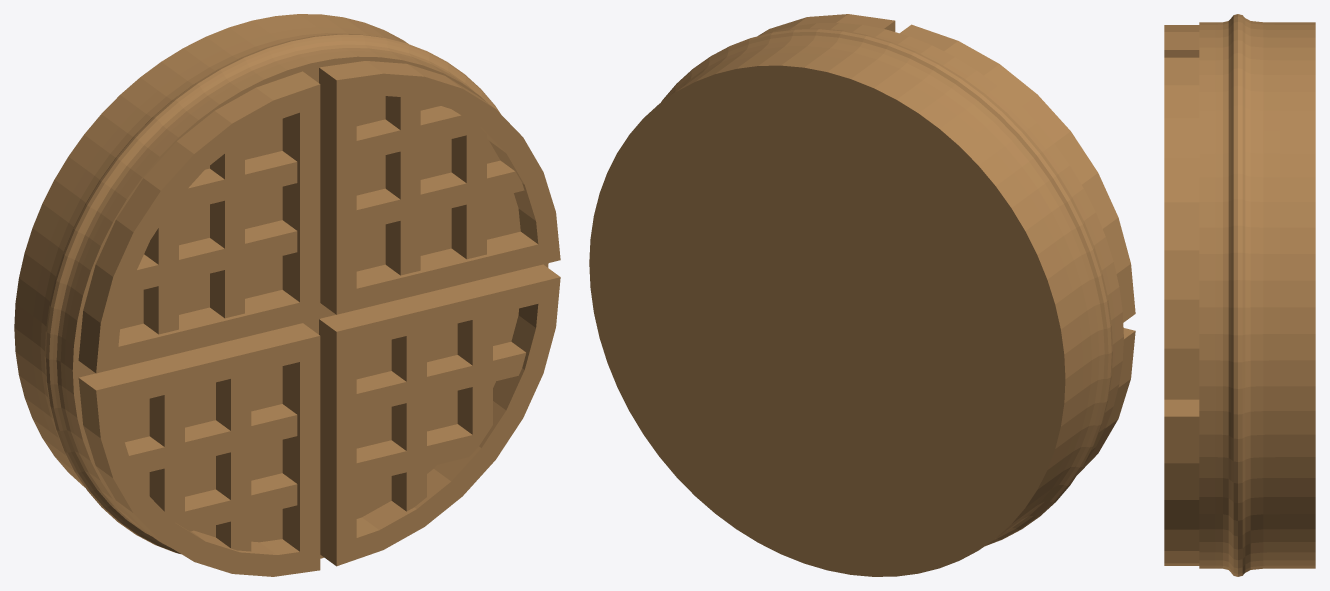
Rendered from wafle.glb.
The picture shows the model from 3 angles, left to right: view 1: azimuth 30°, elevation 25°; view 2: azimuth 150°, elevation 25°; view 3: azimuth 270°, elevation 25°; orthographic projection.
Visible parts, largest first — view 1: Sphere.062; view 2: Sphere.062; view 3: Sphere.062.
Part boxes in pixels (x1,y1,x2,y2): Sphere.062: (14, 14, 560, 576); Sphere.062: (589, 14, 1135, 576); Sphere.062: (1164, 14, 1315, 576).
Bounding box in the file's own units: 14.54 × 14.54 × 3.9.
